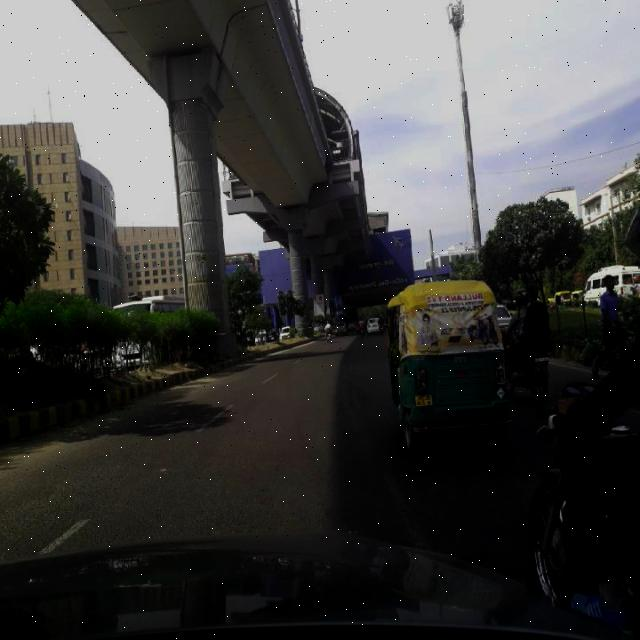D20: (14, 431, 274, 553)
D44: (380, 468, 434, 550), (345, 370, 366, 418)
